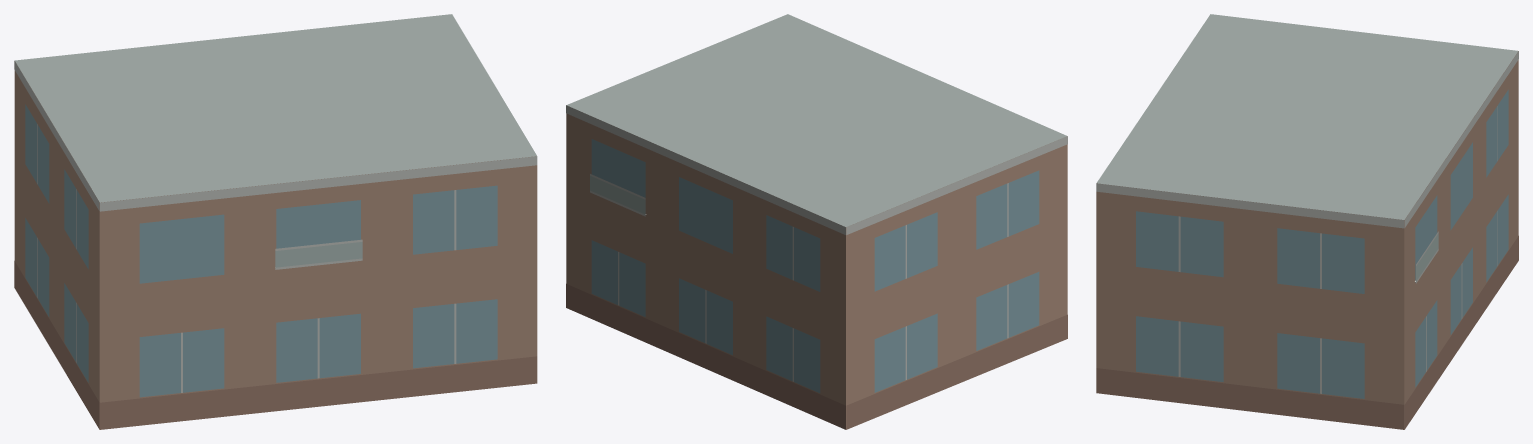
Rendered from survey-upis-32713052.glb.
3 views of the same model, side by side, from view 1: azimuth 30°, elevation 25°; view 2: azimuth 150°, elevation 25°; view 3: azimuth 270°, elevation 25° (orthographic). The views are drawn at different scales.
Parts seen in each view (by area): view 1: survey-upis-32713052.tmp; view 2: survey-upis-32713052.tmp; view 3: survey-upis-32713052.tmp.
Boxes of the visible parts, x1,y1,x2,y2 form: survey-upis-32713052.tmp: (14, 14, 537, 429); survey-upis-32713052.tmp: (566, 14, 1067, 429); survey-upis-32713052.tmp: (1096, 14, 1518, 429).
Size of the model in its own units: 12.86 by 6.1 by 11.14.
